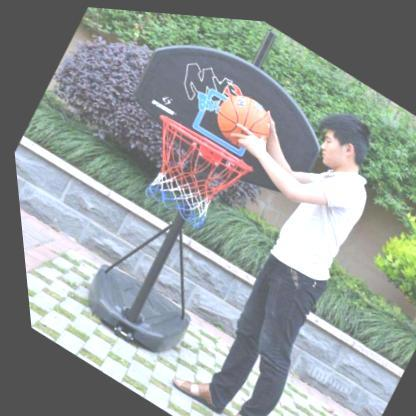basketball: (204, 81, 279, 154)
rim: (117, 105, 256, 239)
